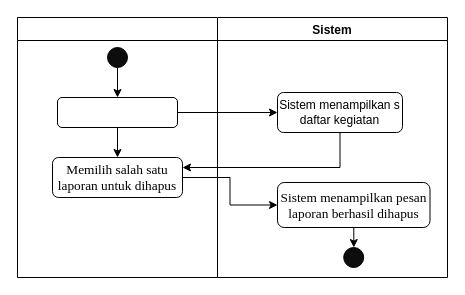
This 465x295 diagram has some shape labels left out. The box of each missing label's shape, as (x1, y1, x2, y2) in pixels:
Memilih menu Daftar kegiatan: (56, 96, 178, 128)
Panwascam: (16, 16, 218, 278)
